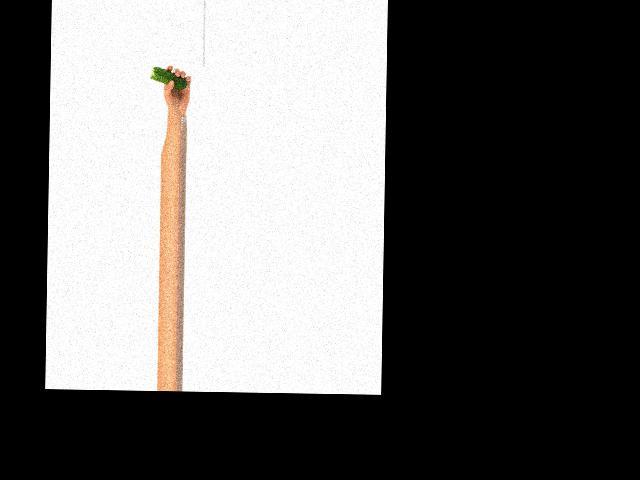cucumber: (150, 67, 188, 89)
